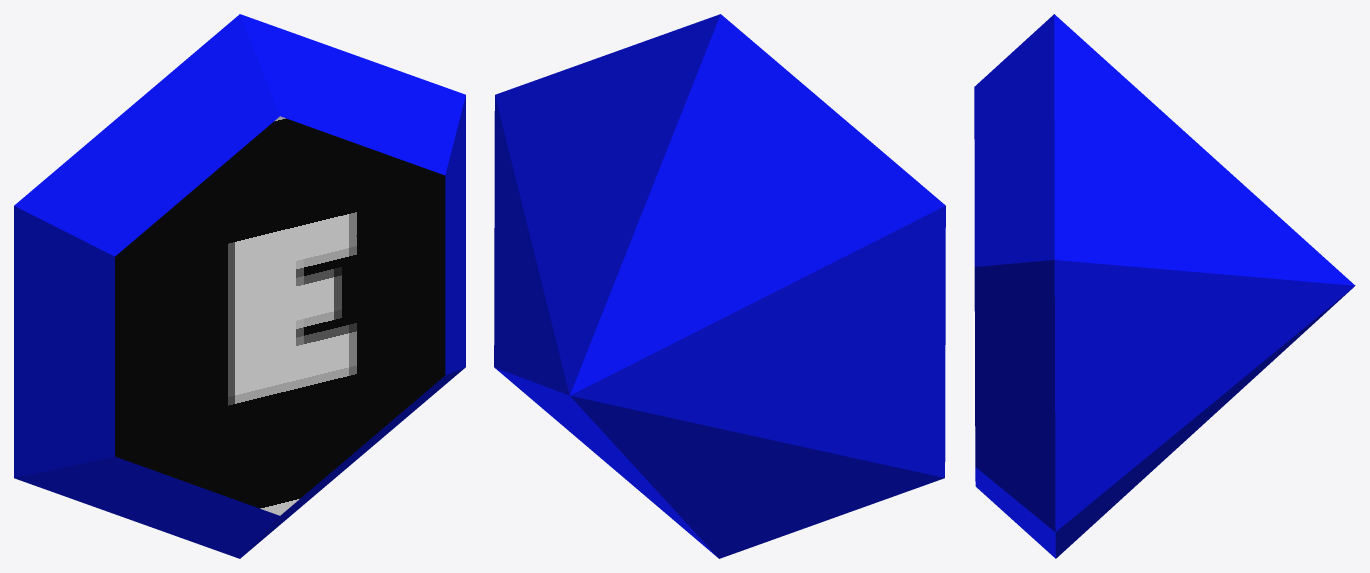
The model's file is Smart Bomb.obj.
3 renders of one model, left to right at view 1: azimuth 30°, elevation 25°; view 2: azimuth 150°, elevation 25°; view 3: azimuth 270°, elevation 25°, orthographic.
Parts seen in each view (by area): view 1: ShapeIndexedFaceSet.139; view 2: ShapeIndexedFaceSet.139; view 3: ShapeIndexedFaceSet.139.
Boxes of the visible parts, x1,y1,x2,y2 form: ShapeIndexedFaceSet.139: (14, 14, 465, 558); ShapeIndexedFaceSet.139: (494, 14, 945, 558); ShapeIndexedFaceSet.139: (974, 14, 1355, 558).
Size of the model in its own units: 2.81 by 3.24 by 2.06.
2 materials, 2 textured.
